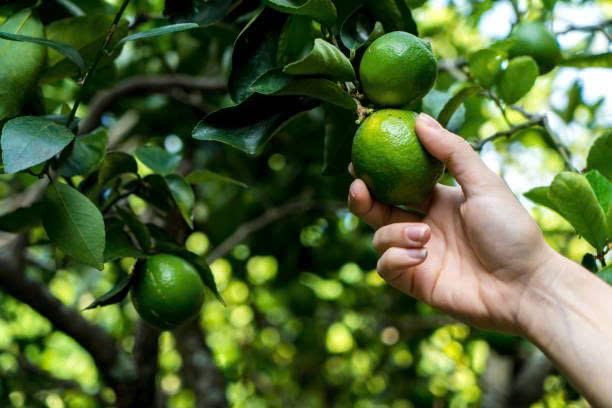lime: (330, 105, 449, 206), (119, 247, 212, 336), (356, 25, 442, 105), (497, 12, 580, 84)
